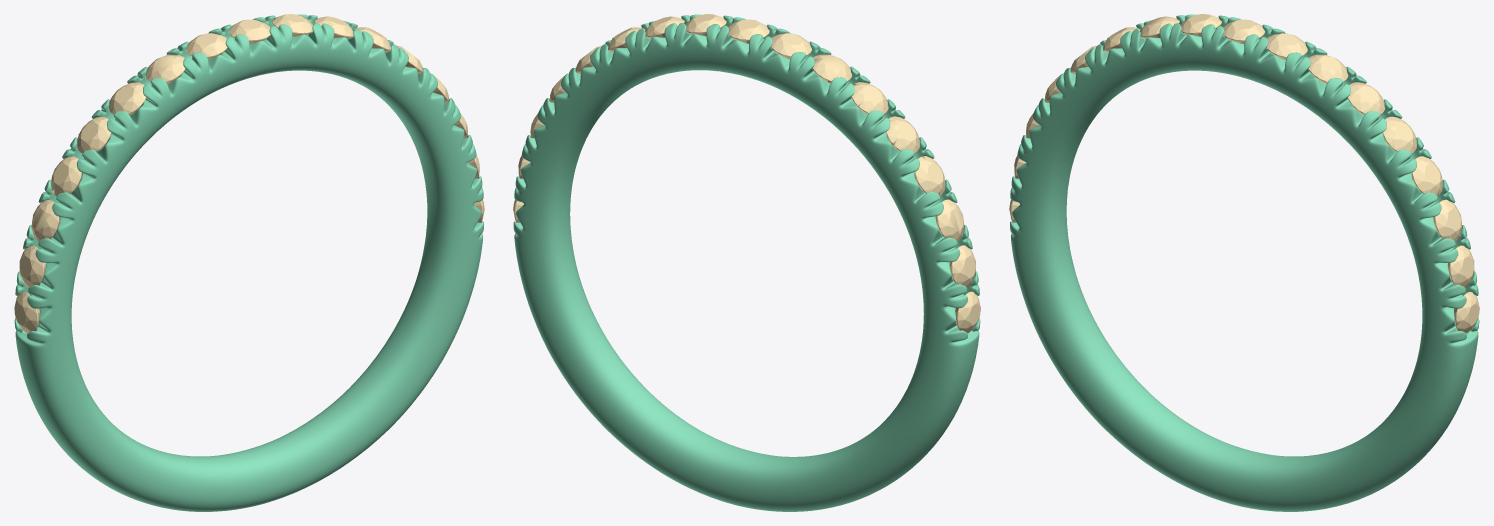
3 renders of one model, left to right at view 1: azimuth 30°, elevation 25°; view 2: azimuth 150°, elevation 25°; view 3: azimuth 330°, elevation 25°, orthographic.
Parts seen in each view (by area): view 1: Metal02, Diamond_Round.012, Diamond_Round.013, Diamond_Round.011, Diamond_Round.014, Diamond_Round.010, Diamond_Round.015, Diamond_Round.009, Diamond_Round.016, Diamond_Round.008, Diamond_Round.007; view 2: Metal02, Diamond_Round.012, Diamond_Round.013, Diamond_Round.011, Diamond_Round.014, Diamond_Round.010, Diamond_Round.015, Diamond_Round.009, Diamond_Round.016, Diamond_Round.008, Diamond_Round.007; view 3: Metal02, Diamond_Round.004, Diamond_Round.003, Diamond_Round.005, Diamond_Round.002, Diamond_Round.006, Diamond_Round.001, Diamond_Round.007, Diamond_Round, Diamond_Round.008, Diamond_Round.009.
Boxes of the visible parts, <box> form: Metal02: <box>14,14,483,511</box>; Diamond_Round.012: <box>77,116,111,153</box>; Diamond_Round.013: <box>51,156,81,196</box>; Diamond_Round.011: <box>109,82,146,114</box>; Diamond_Round.014: <box>31,200,60,241</box>; Diamond_Round.010: <box>145,54,185,83</box>; Diamond_Round.015: <box>19,245,45,287</box>; Diamond_Round.009: <box>186,33,227,59</box>; Diamond_Round.016: <box>14,291,39,333</box>; Diamond_Round.008: <box>229,19,270,43</box>; Diamond_Round.007: <box>272,14,312,36</box>; Metal02: <box>513,14,980,511</box>; Diamond_Round.012: <box>886,116,919,152</box>; Diamond_Round.013: <box>915,156,945,195</box>; Diamond_Round.011: <box>851,82,888,113</box>; Diamond_Round.014: <box>936,199,964,241</box>; Diamond_Round.010: <box>812,54,851,83</box>; Diamond_Round.015: <box>949,245,975,287</box>; Diamond_Round.009: <box>771,33,811,59</box>; Diamond_Round.016: <box>955,291,980,333</box>; Diamond_Round.008: <box>728,19,769,43</box>; Diamond_Round.007: <box>686,14,726,36</box>; Metal02: <box>1010,14,1479,511</box>; Diamond_Round.004: <box>1382,116,1416,153</box>; Diamond_Round.003: <box>1412,156,1442,195</box>; Diamond_Round.005: <box>1347,82,1384,114</box>; Diamond_Round.002: <box>1433,199,1462,241</box>; Diamond_Round.006: <box>1308,54,1348,83</box>; Diamond_Round.001: <box>1448,245,1474,287</box>; Diamond_Round.007: <box>1266,33,1307,59</box>; Diamond_Round: <box>1454,291,1479,333</box>; Diamond_Round.008: <box>1223,19,1264,43</box>; Diamond_Round.009: <box>1180,14,1221,36</box>.
Bounding box in the file's own units: 20.71 × 20.7 × 2.26.
